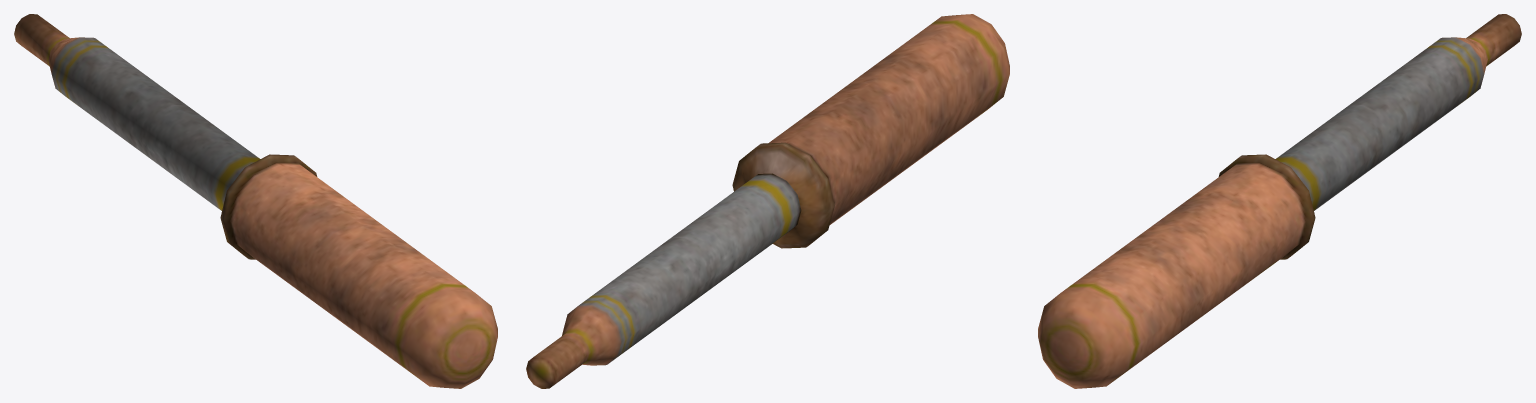
3 views of the same model, side by side, from view 1: azimuth 30°, elevation 25°; view 2: azimuth 150°, elevation 25°; view 3: azimuth 330°, elevation 25° (orthographic).
Parts seen in each view (by area): view 1: g; view 2: g; view 3: g.
Part boxes in pixels (x1,y1,x2,y2): g: (14,14,497,388); g: (526,14,1009,388); g: (1038,14,1521,388).
Bounding box in the file's own units: 0.2596 × 0.2596 × 2.
Materials: 1 (1 with a texture image).
